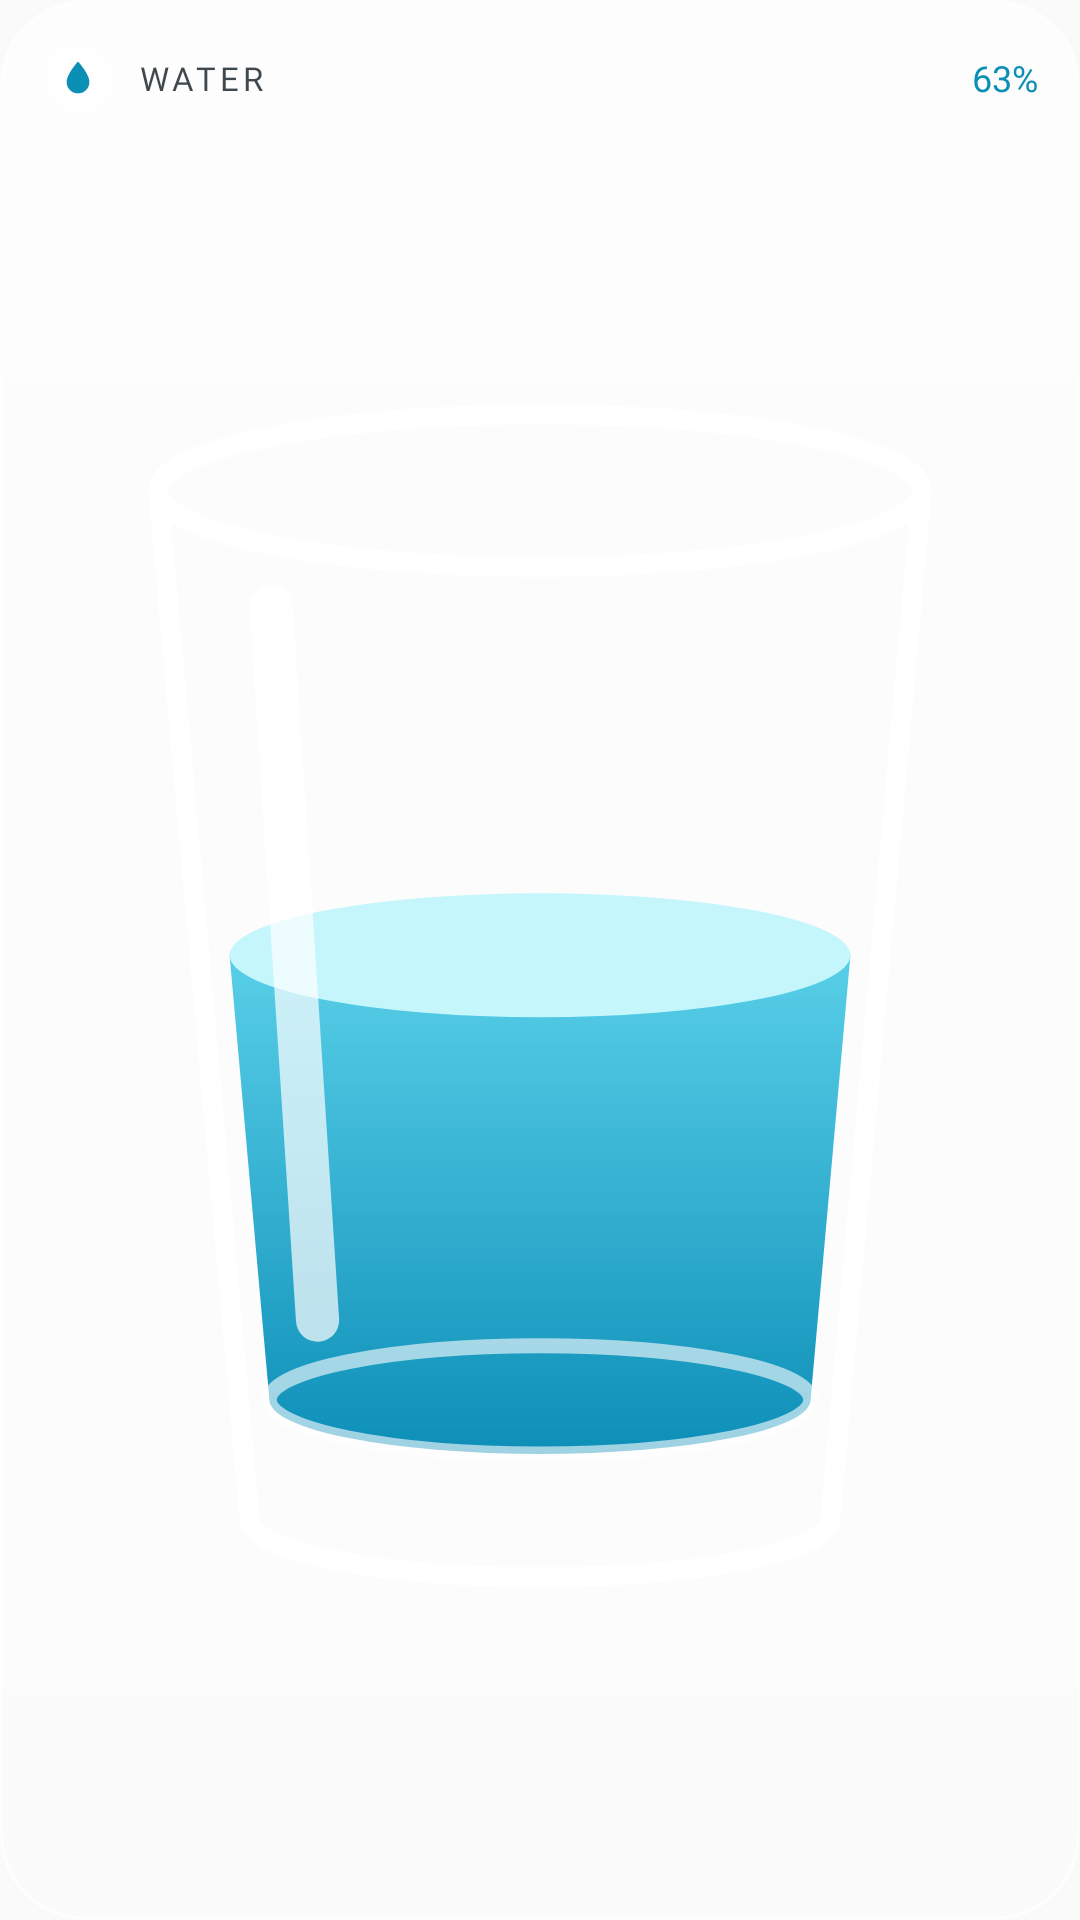

Named icons in this screenshot (1080*1920) and their centers, point (x, y):
widget drop: point (78, 78)
